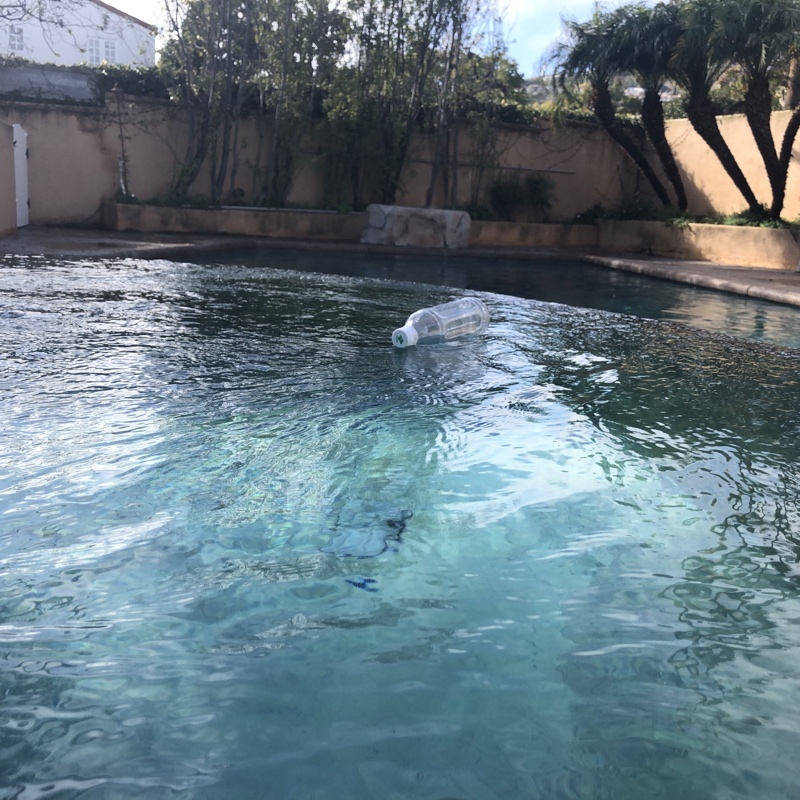Plastic Bottle: (388, 293, 492, 351)
